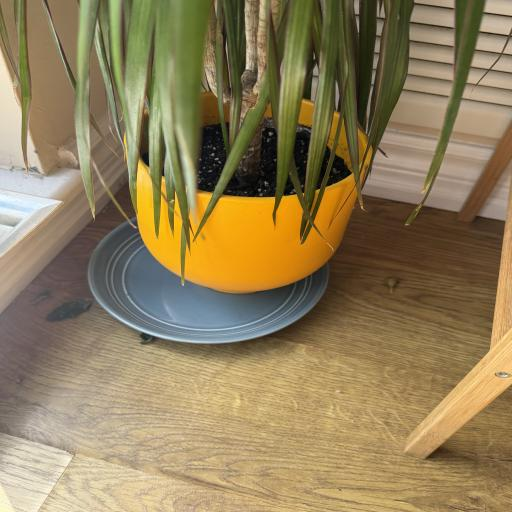Plant Pot: (122, 83, 372, 294)
